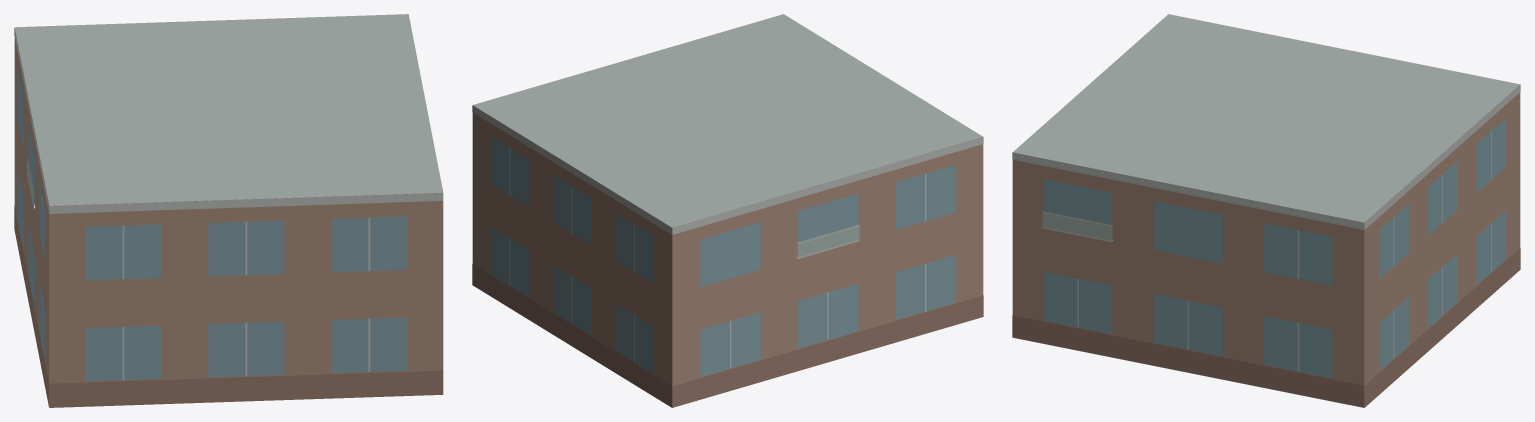
Rendered from survey-upis-32812964.glb.
3 views of the same model, side by side, from view 1: azimuth 30°, elevation 25°; view 2: azimuth 150°, elevation 25°; view 3: azimuth 270°, elevation 25° (orthographic). The views are drawn at different scales.
Parts seen in each view (by area): view 1: survey-upis-32812964.tmp; view 2: survey-upis-32812964.tmp; view 3: survey-upis-32812964.tmp.
Boxes of the visible parts, x1,y1,x2,y2 form: survey-upis-32812964.tmp: (14,14,443,407); survey-upis-32812964.tmp: (472,14,983,407); survey-upis-32812964.tmp: (1012,14,1520,407).
Bounding box in the file's own units: 14.75 × 6.1 × 15.17.
